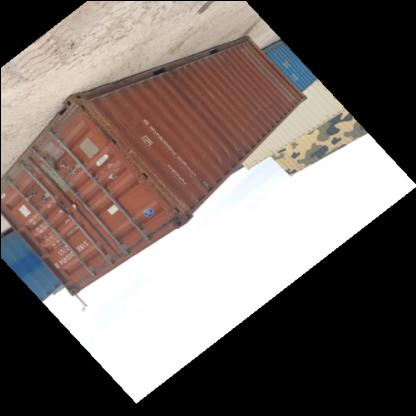Damage: (234, 92, 278, 136), (38, 142, 70, 194), (204, 148, 234, 174), (97, 154, 116, 182), (124, 113, 146, 135)
